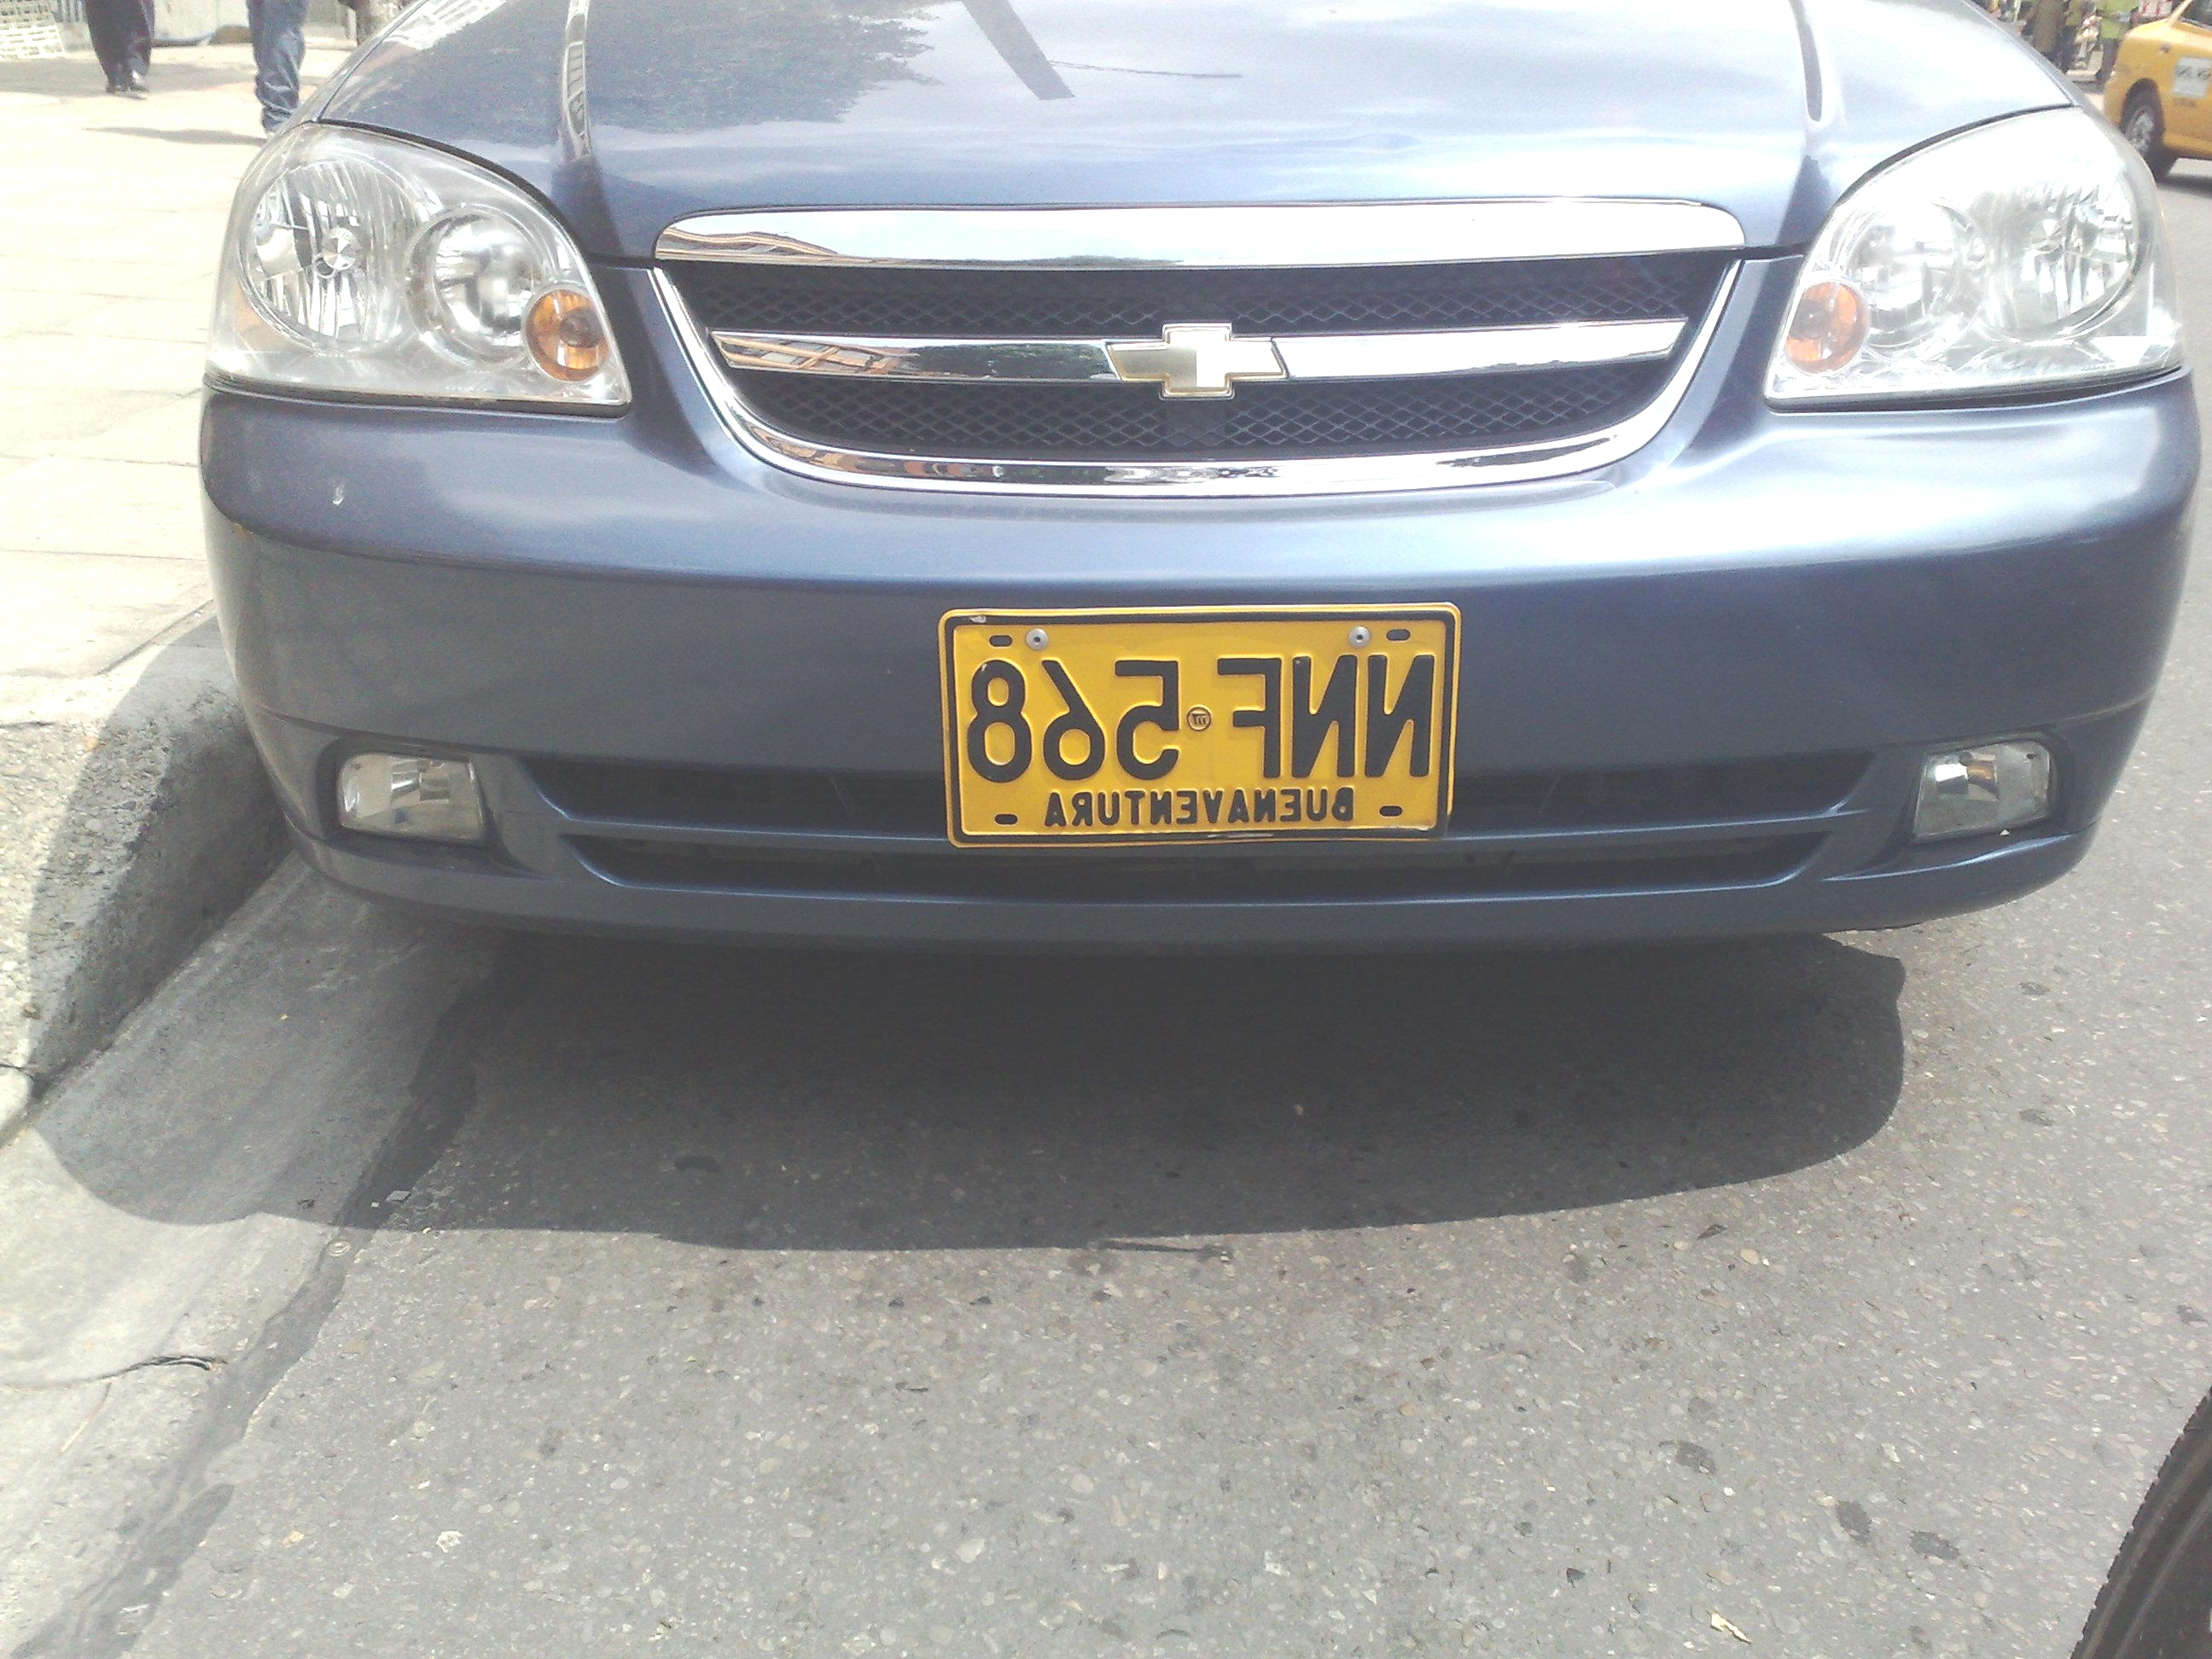placas: (934, 592, 1467, 856)
